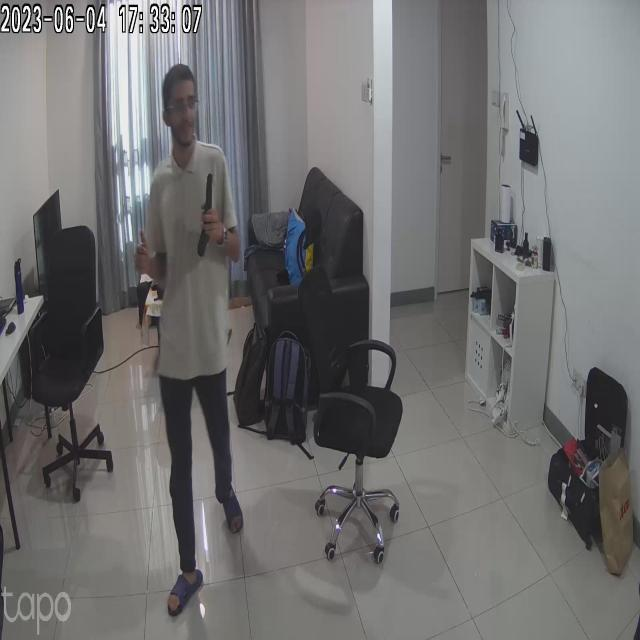Gun: (185, 168, 233, 262)
